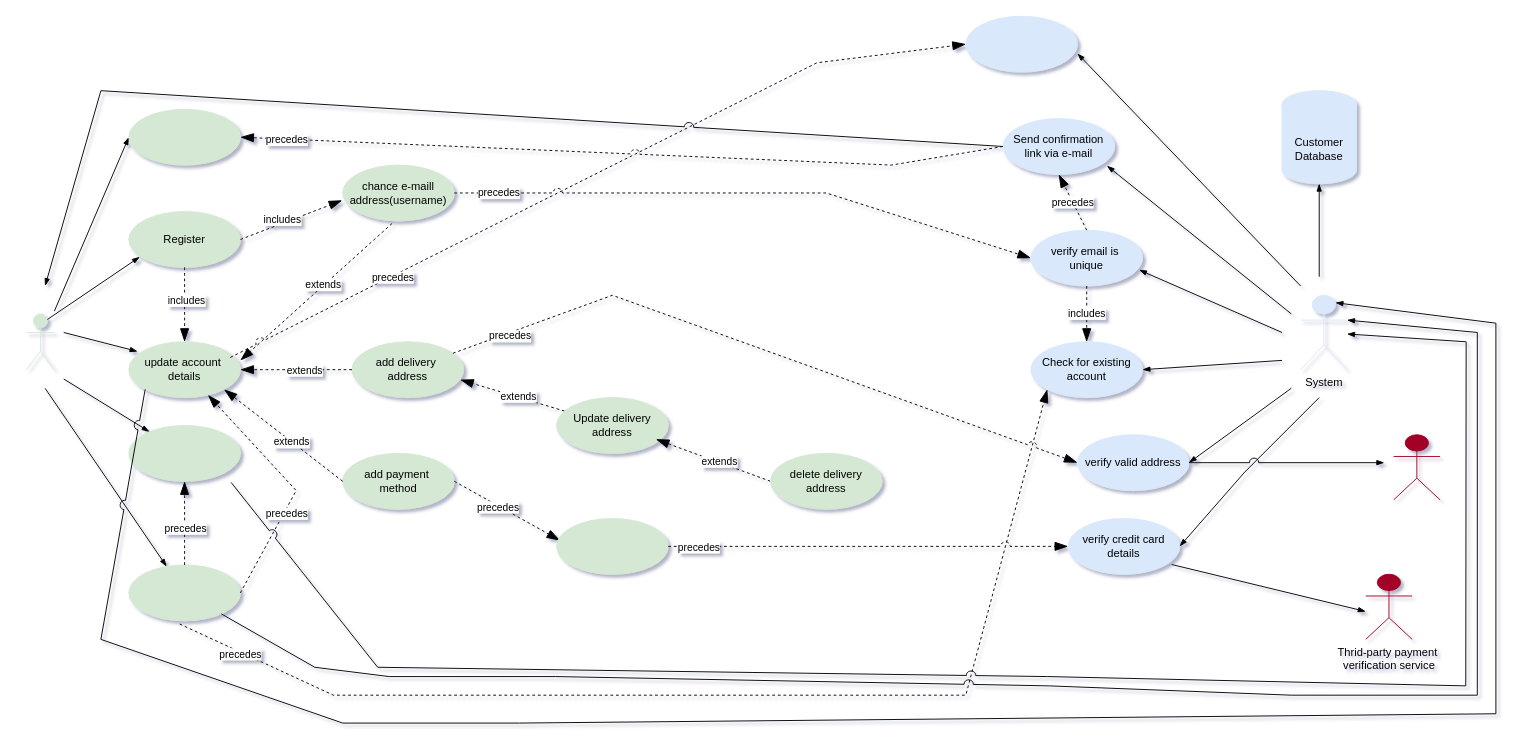
The diagram is 1525 pixels wide and 752 high, and some of its shapes have lost their labels. The shapes that lost their labels are listed below. From the top down, each one's centre as x and y in pixels, then its label:
point (1021, 43): update customer database
point (184, 136): Confirm e-mail address
point (40, 341): Customer
point (184, 453): View account
point (1416, 467): MAP API
point (612, 546): Enter Payment details
point (184, 592): Login
